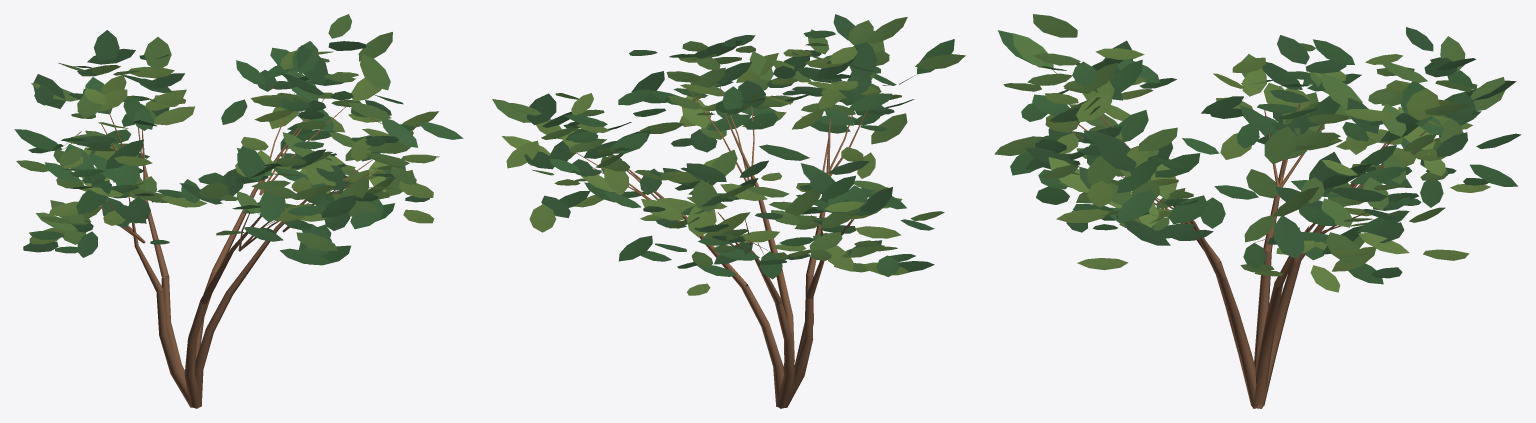
Rendered from ArbousierBuisson_2_Low.fbx.
The picture shows the model from 3 angles, left to right: view 1: azimuth 30°, elevation 25°; view 2: azimuth 150°, elevation 25°; view 3: azimuth 270°, elevation 25°; orthographic projection. The views are drawn at different scales.
Visible parts, largest first — view 1: ArbousierBuisson_2_Low; view 2: ArbousierBuisson_2_Low; view 3: ArbousierBuisson_2_Low.
Boxes of the visible parts, x1,y1,x2,y2 form: ArbousierBuisson_2_Low: (14,14,463,408); ArbousierBuisson_2_Low: (492,14,965,408); ArbousierBuisson_2_Low: (994,14,1521,408).
Size of the model in its own units: 314 by 233 by 307.
